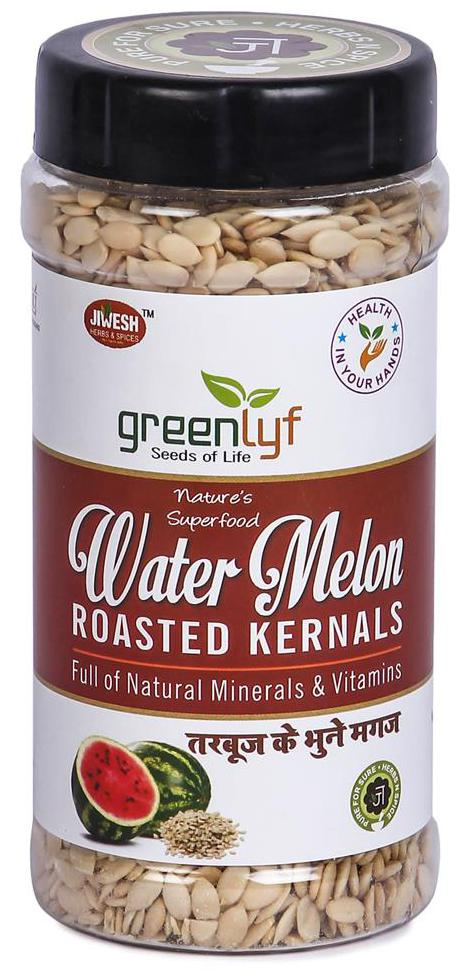JAR: (14, 7, 456, 954)
